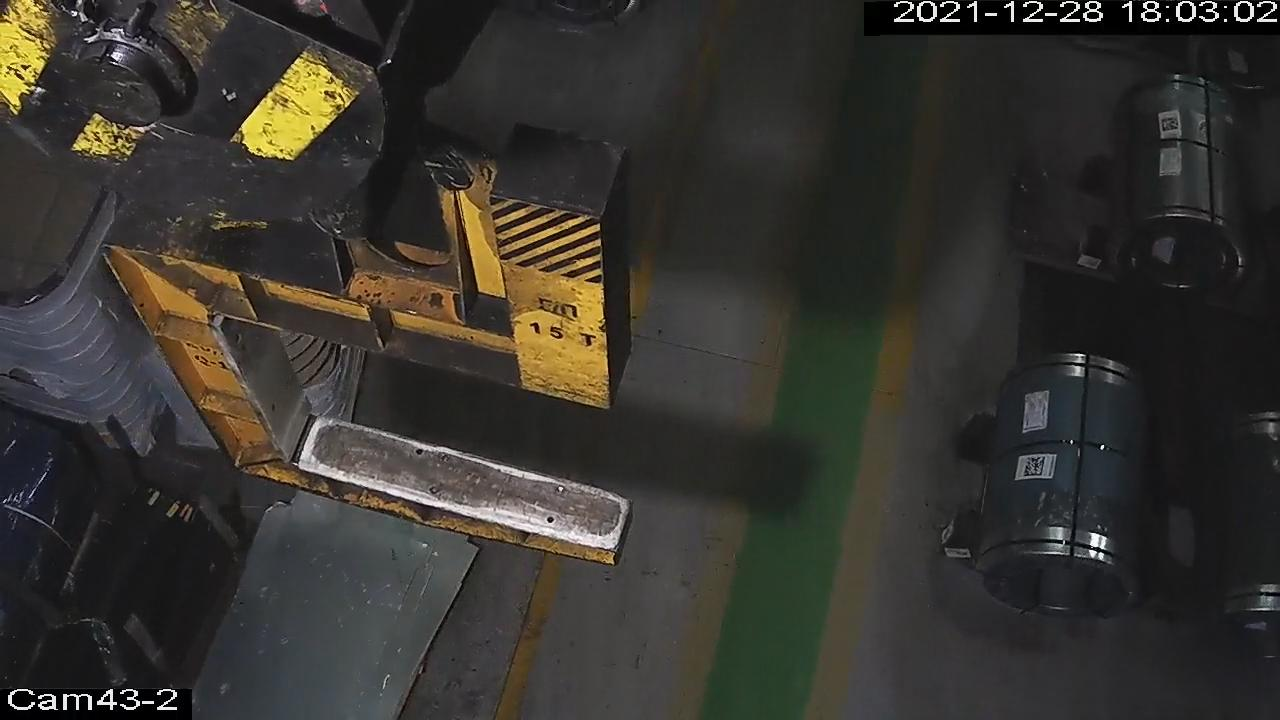data matrix: (1023, 455, 1047, 479), (1160, 116, 1181, 134)
